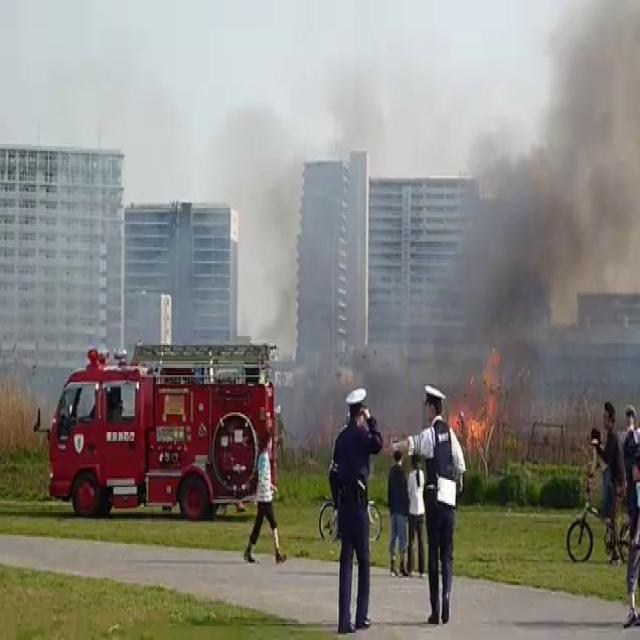Fire: (449, 346, 512, 452)
Smoke: (442, 1, 640, 401), (247, 134, 320, 360)
